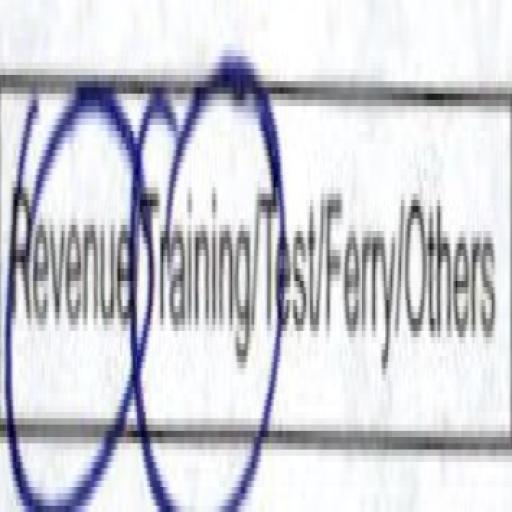check: (0, 58, 132, 512), (134, 44, 256, 512)
